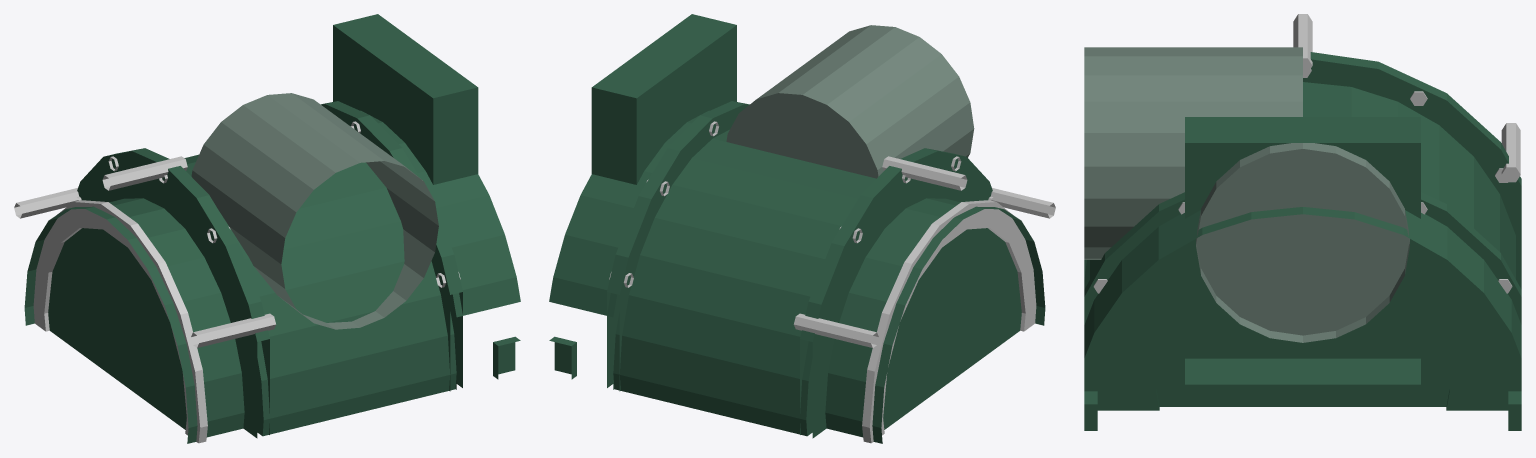
File: cell_54.obj
3 renders of one model, left to right at view 1: azimuth 30°, elevation 25°; view 2: azimuth 150°, elevation 25°; view 3: azimuth 270°, elevation 25°, orthographic. The views are drawn at different scales.
Size of the model in its own units: 1 by 0.76 by 1.
